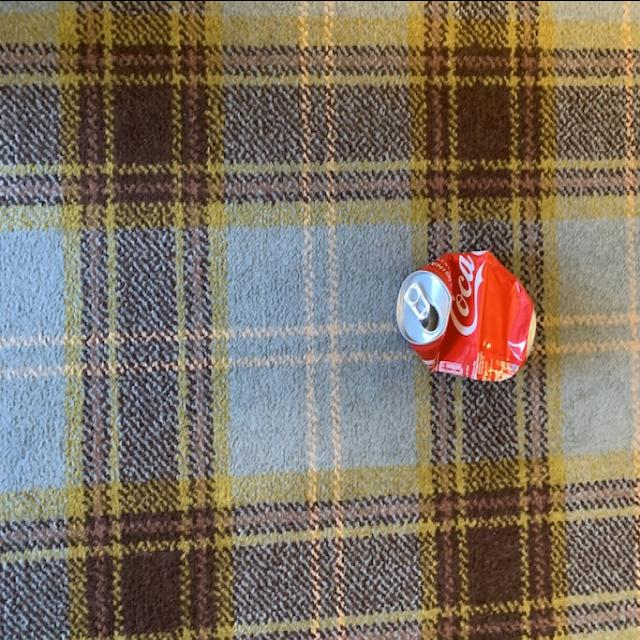litter: (394, 245, 546, 387)
